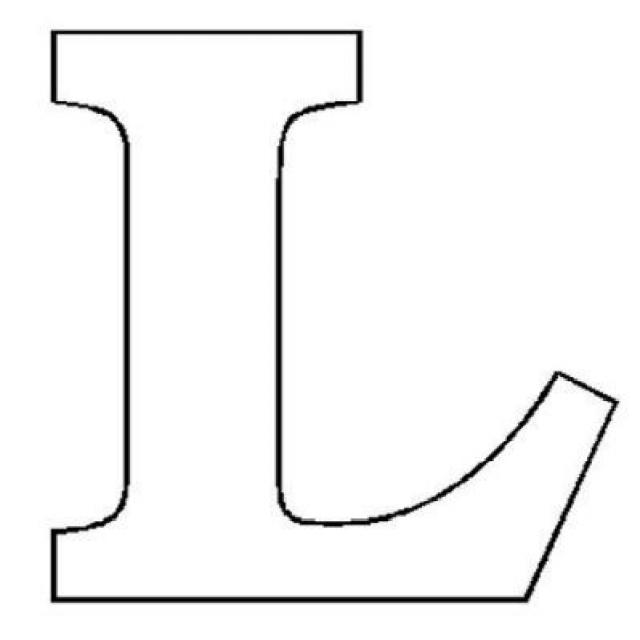L: (37, 20, 626, 626)
